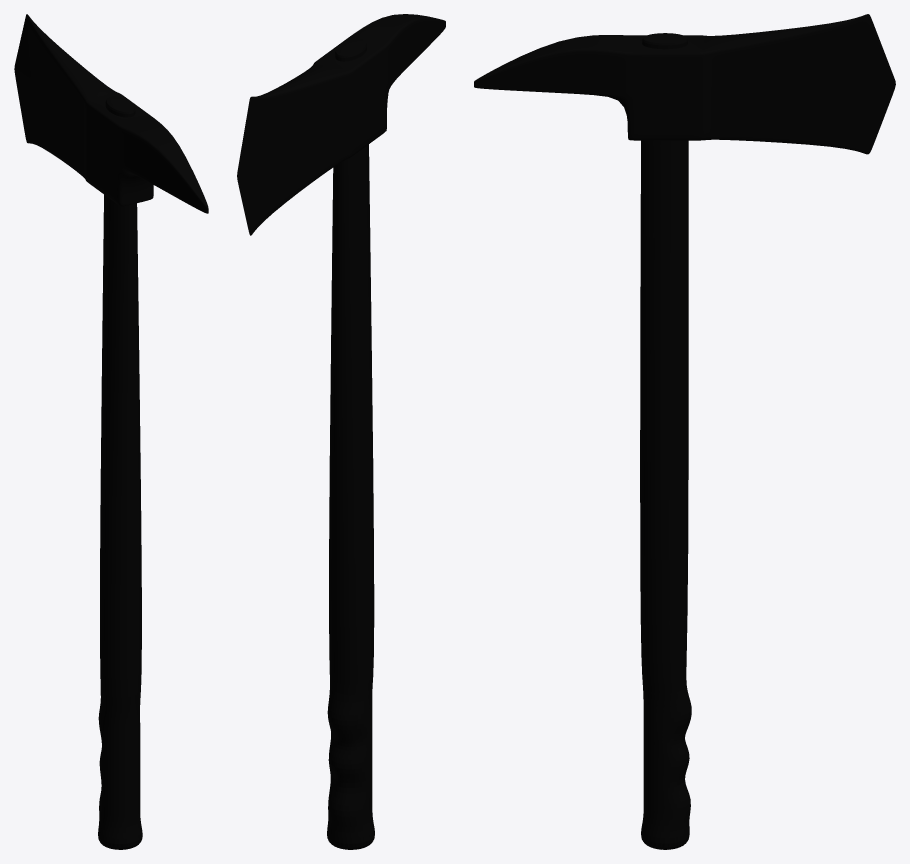
File: Axe.fbx
The picture shows the model from 3 angles, left to right: view 1: azimuth 30°, elevation 25°; view 2: azimuth 150°, elevation 25°; view 3: azimuth 270°, elevation 25°; orthographic projection. The views are drawn at different scales.
Visible parts, largest first — view 1: Handle Axe_Baked, Axe_Baked; view 2: Handle Axe_Baked, Axe_Baked; view 3: Axe_Baked, Handle Axe_Baked.
Boxes of the visible parts, x1,y1,x2,y2 form: Handle Axe_Baked: (98, 96, 142, 849); Axe_Baked: (14, 14, 208, 213); Handle Axe_Baked: (327, 39, 374, 849); Axe_Baked: (237, 14, 445, 235); Axe_Baked: (474, 14, 895, 154); Handle Axe_Baked: (640, 33, 691, 849).
Bounding box in the file's own units: 8.32 × 157 × 71.99.
